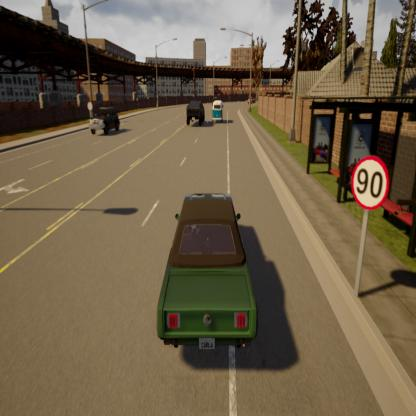Cars: (157, 193, 257, 354), (89, 106, 119, 138), (186, 98, 204, 125), (212, 99, 224, 122), (249, 98, 255, 105)
